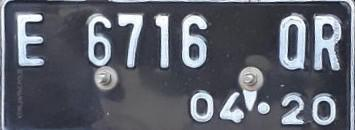1: (148, 10, 176, 72)
6: (175, 9, 213, 70), (84, 9, 114, 69)
7: (113, 10, 146, 71)
E: (12, 7, 48, 70)
Q: (274, 12, 310, 72)
R: (310, 8, 346, 76)
